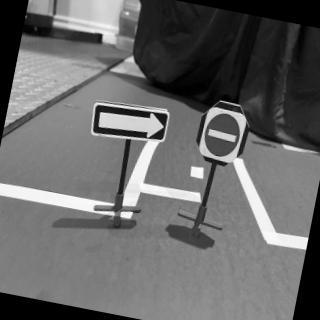sign_noentry: (196, 104, 249, 171)
sign_oneway_right: (87, 96, 173, 152)
